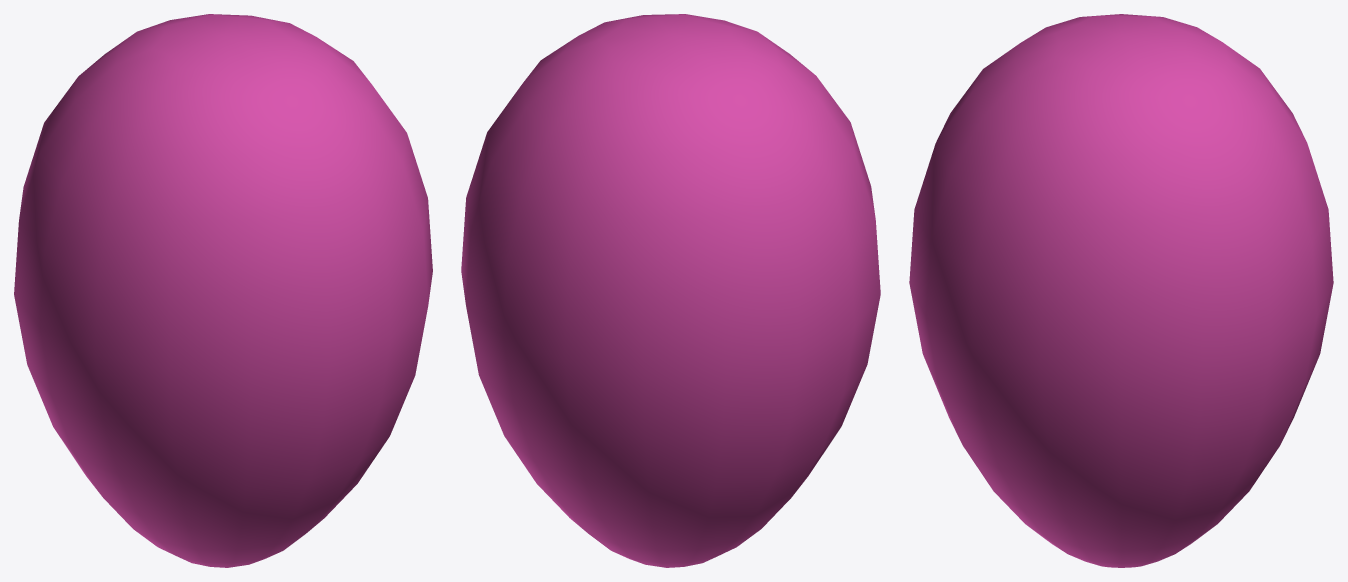
File: Blow_Balloon_Red.FBX
The picture shows the model from 3 angles, left to right: view 1: azimuth 30°, elevation 25°; view 2: azimuth 150°, elevation 25°; view 3: azimuth 270°, elevation 25°; orthographic projection.
Parts seen in each view (by area): view 1: Blow_Balloon_Red; view 2: Blow_Balloon_Red; view 3: Blow_Balloon_Red.
Boxes of the visible parts, x1=… form: Blow_Balloon_Red: x1=14, y1=14, x2=432, y2=567; Blow_Balloon_Red: x1=461, y1=14, x2=880, y2=567; Blow_Balloon_Red: x1=909, y1=14, x2=1333, y2=567.
Bounding box in the file's own units: 7.8 × 10.68 × 7.8.
